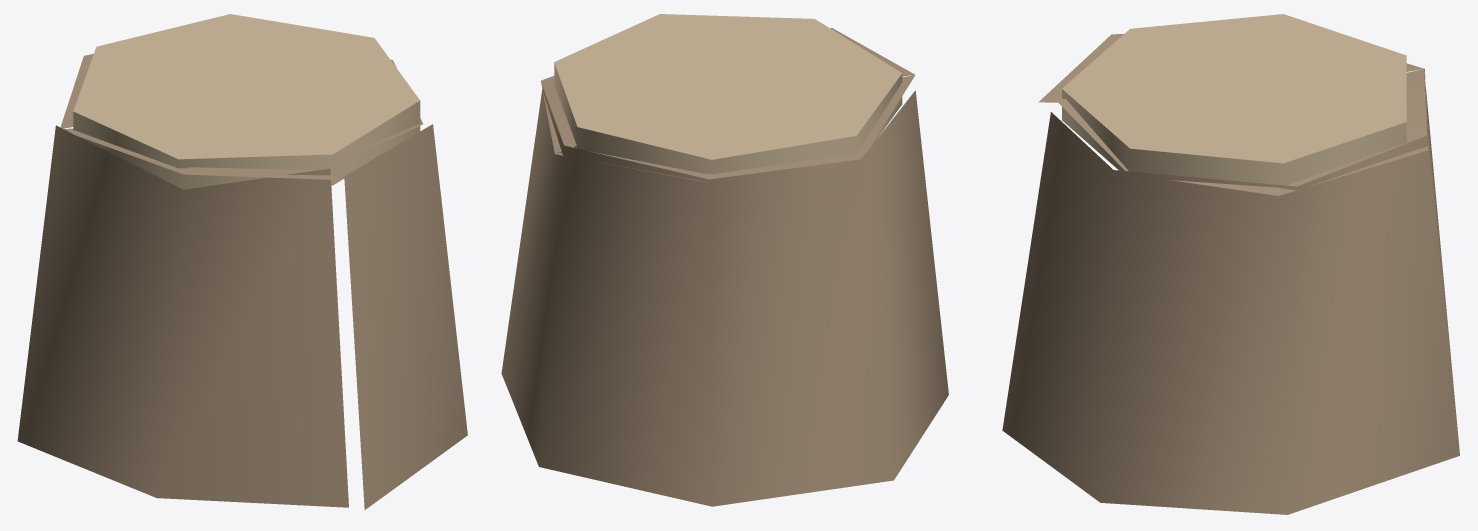
File: stump.glb
The picture shows the model from 3 angles, left to right: view 1: azimuth 30°, elevation 25°; view 2: azimuth 150°, elevation 25°; view 3: azimuth 270°, elevation 25°; orthographic projection.
Visible parts, largest first — view 1: stump; view 2: stump; view 3: stump.
Part boxes in pixels (x1,y1,x2,y2): stump: (17,14,467,509); stump: (501,14,948,506); stump: (1002,14,1459,514).
Size of the model in its own units: 0.673 by 0.5389 by 0.6709.
